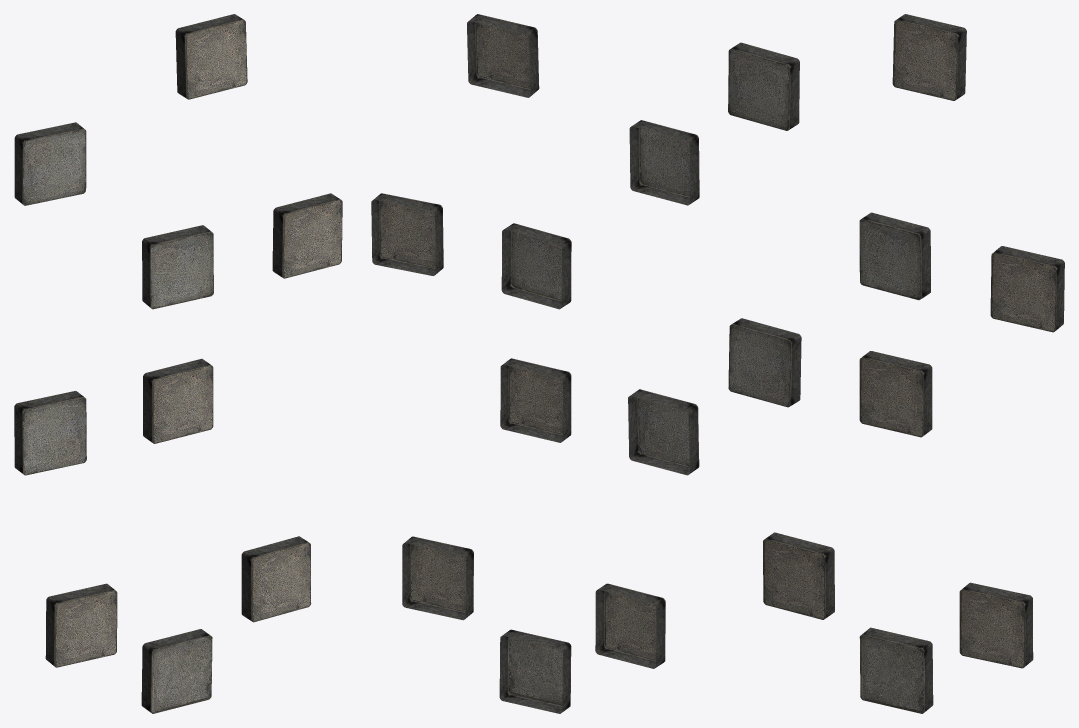
File: hd_dec_UNI_003_PavingDirected_vertical_04.glb
3 renders of one model, left to right at view 1: azimuth 30°, elevation 25°; view 2: azimuth 150°, elevation 25°; view 3: azimuth 330°, elevation 25°, orthographic. The views are drawn at different scales.
Visible parts, largest first — view 1: set_0_group_0; view 2: set_0_group_0; view 3: set_0_group_0.
Part boxes in pixels (x1,y1,x2,y2): set_0_group_0: [14, 14, 342, 713]; set_0_group_0: [371, 14, 699, 713]; set_0_group_0: [728, 14, 1064, 713].
Bounding box in the file's own units: 2.49 × 4.99 × 0.1642.
Materials: 1 (1 with a texture image).
